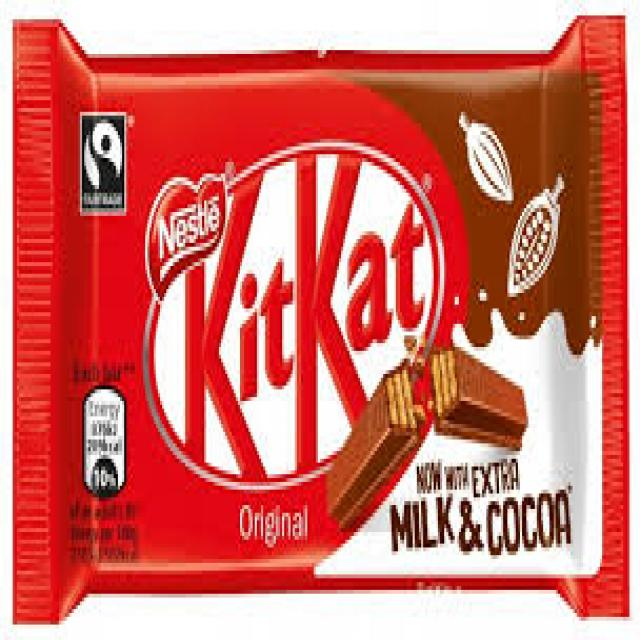kitkat: (12, 20, 630, 616)
